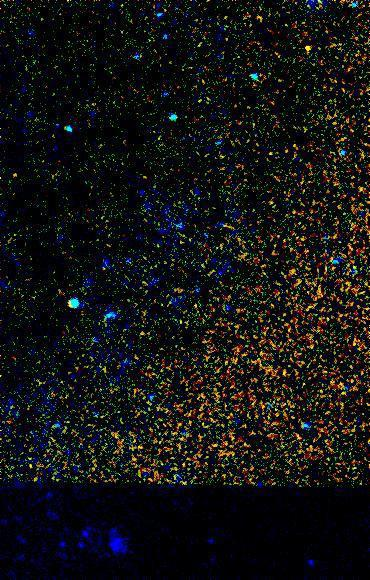star: (296, 33, 326, 63)
